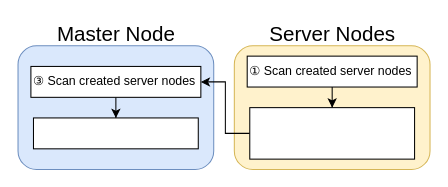
This 448x187 diagram has some shape labels left out. Here are the shapes that lost their labels. From the top down, the box of each, then its label:
(32, 117, 198, 149): ④ Make server node list
(249, 107, 415, 159): ② Create new node following the created server node list
